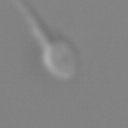normal: (17, 1, 52, 47)
